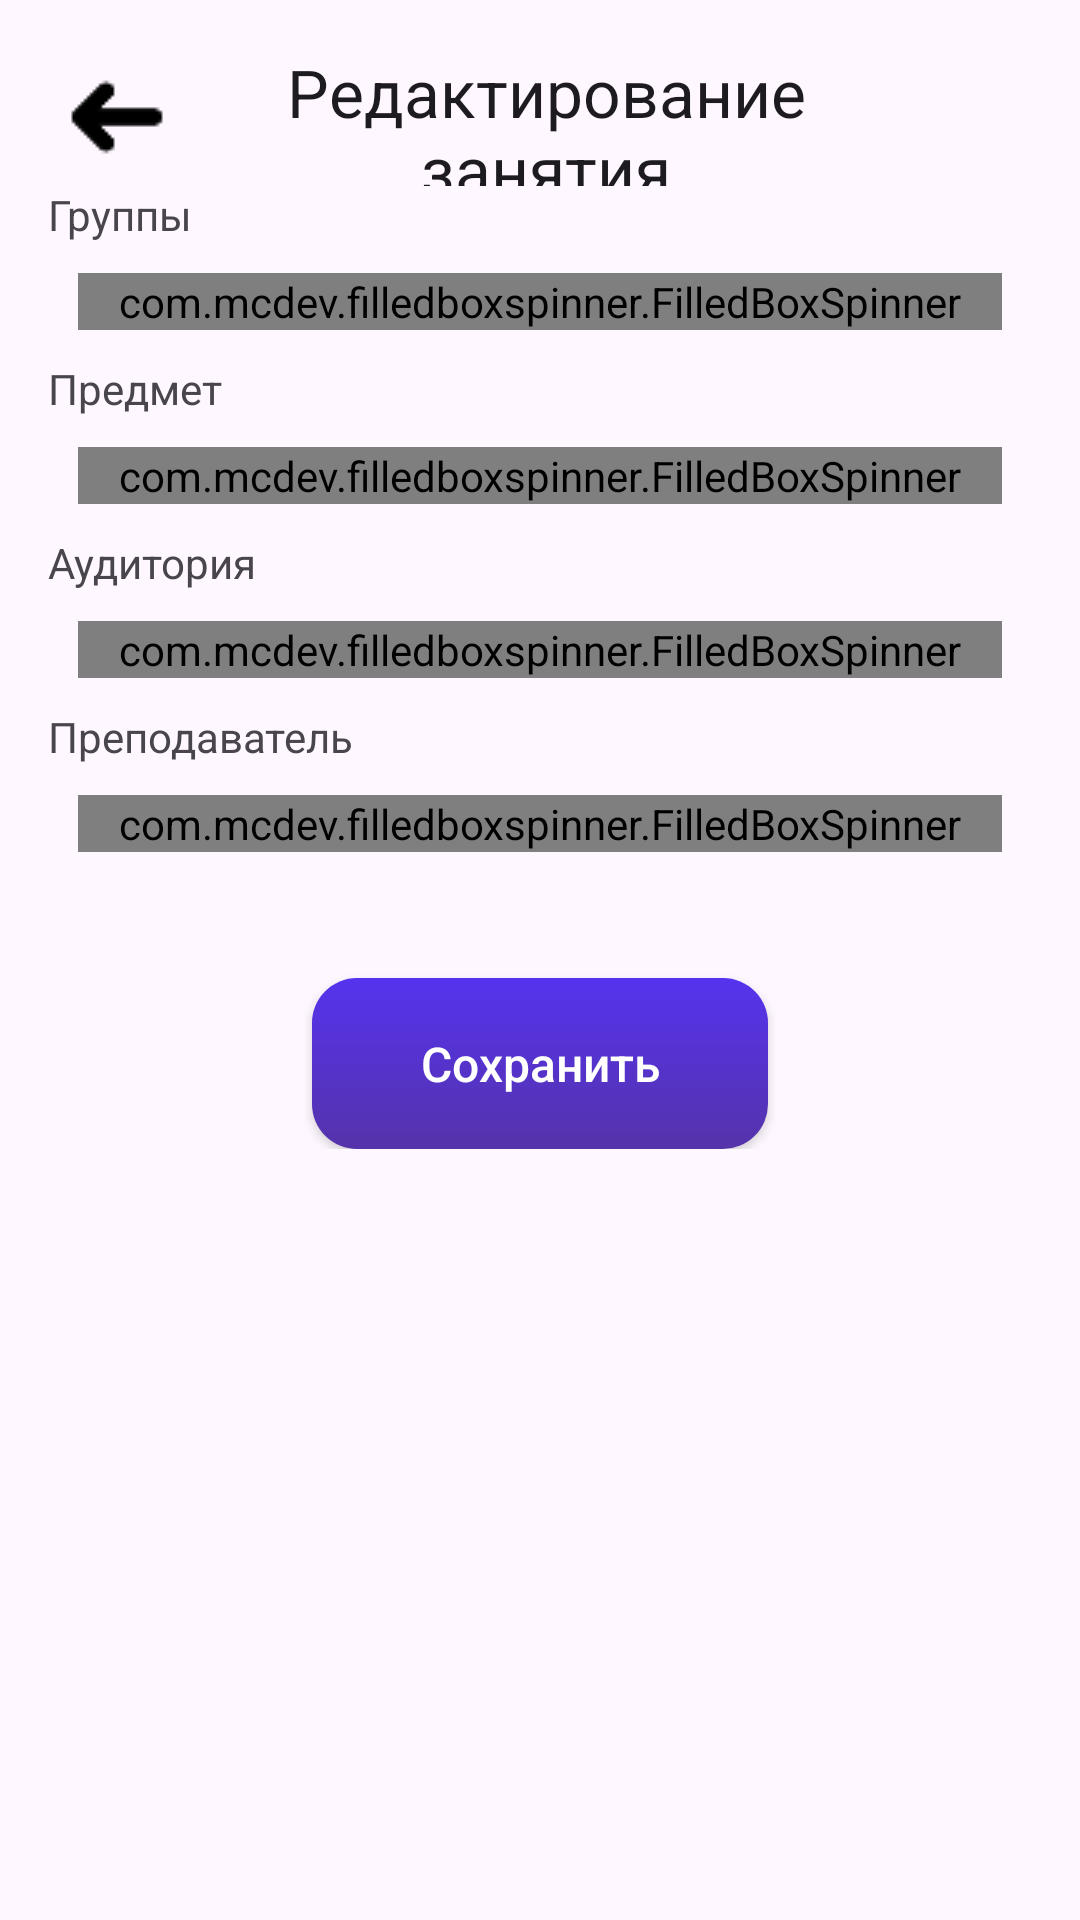

Icons on this 1080×1920 Android screen, each with its box as (x1, y1, x2, y2):
arrowback: (71, 80, 163, 154)
